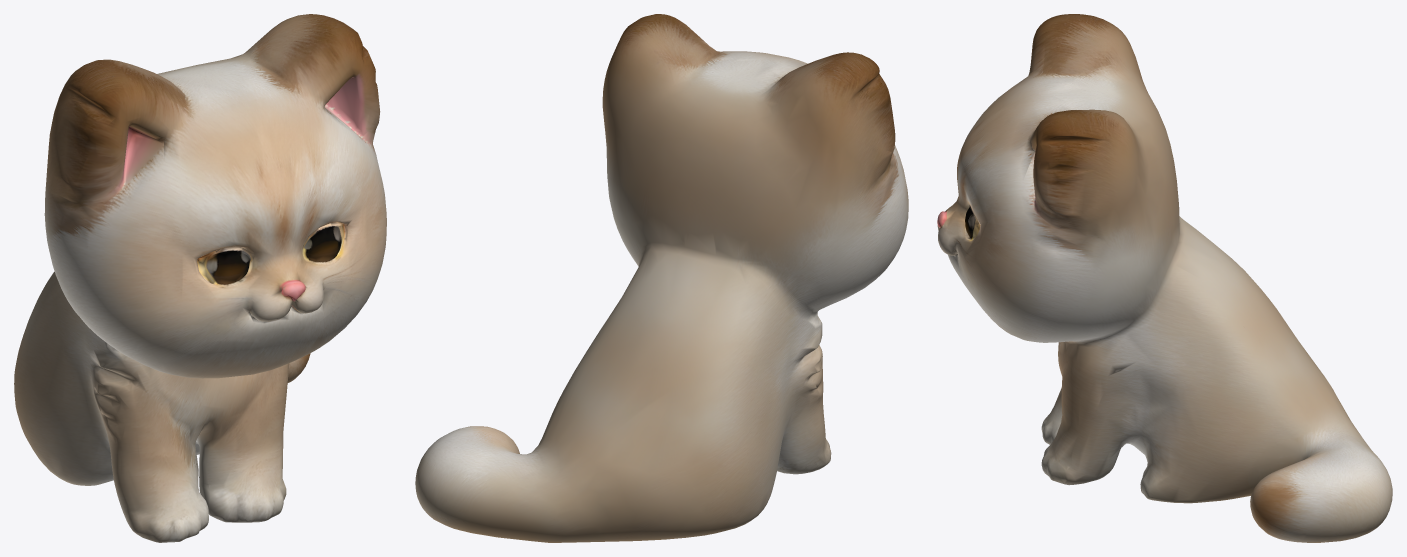
3 renders of one model, left to right at view 1: azimuth 30°, elevation 25°; view 2: azimuth 150°, elevation 25°; view 3: azimuth 270°, elevation 25°, orthographic. The views are drawn at different scales.
Parts seen in each view (by area): view 1: node_0; view 2: node_0; view 3: node_0.
Part boxes in pixels (x1,y1,x2,y2): node_0: [14, 14, 386, 542]; node_0: [415, 14, 908, 542]; node_0: [937, 14, 1392, 542].
Bounding box in the file's own units: 0.6645 × 0.8028 × 0.8218.
1 material, 1 textured.
